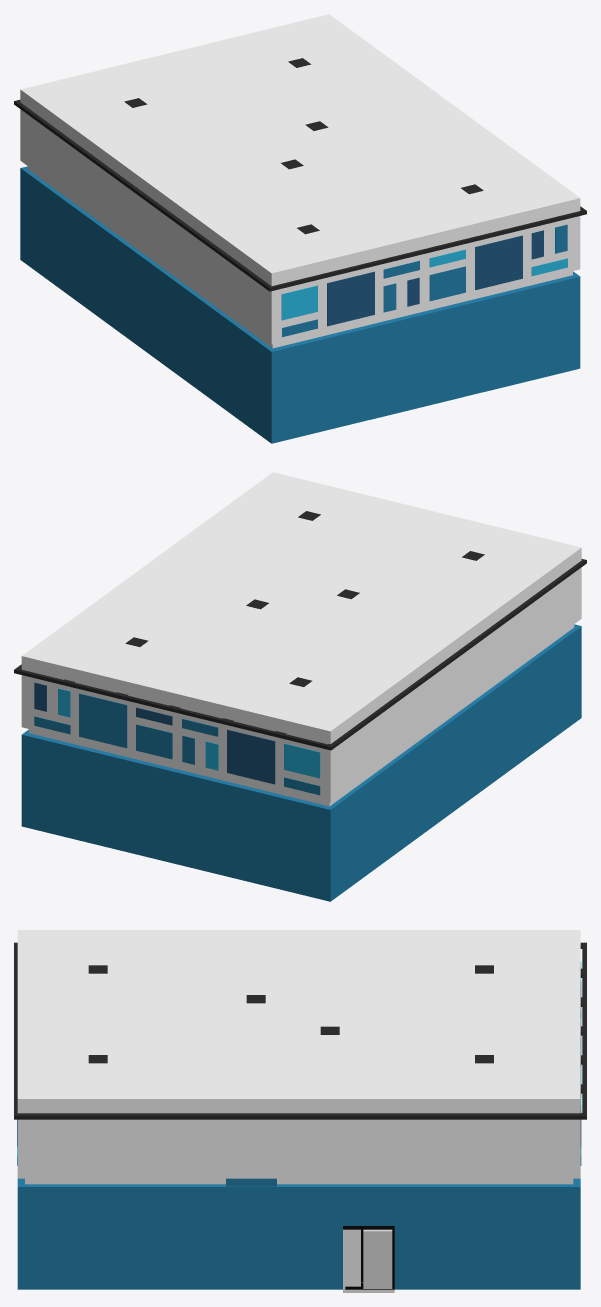
Rendered from NewHall.fbx.
The picture shows the model from 3 angles, top to bottom: view 1: azimuth 30°, elevation 25°; view 2: azimuth 150°, elevation 25°; view 3: azimuth 270°, elevation 25°; orthographic projection. The views are drawn at different scales.
Parts seen in each view (by area): view 1: Cube, Cube.061, Plane.011; view 2: Cube, Cube.065, Plane.011; view 3: Cube, Plane.011, Cube.070, Cube.084.
Part boxes in pixels (<box>): Cube: <box>20,14,580,443</box>; Cube.061: <box>281,224,567,337</box>; Plane.011: <box>14,99,586,291</box>; Cube: <box>21,472,581,901</box>; Cube.065: <box>34,682,320,795</box>; Plane.011: <box>14,559,586,750</box>; Cube: <box>17,930,580,1289</box>; Plane.011: <box>14,942,586,1119</box>; Cube.070: <box>343,1226,394,1292</box>; Cube.084: <box>363,1229,392,1288</box>.
Size of the model in its own units: 2059 by 1054 by 2859.
